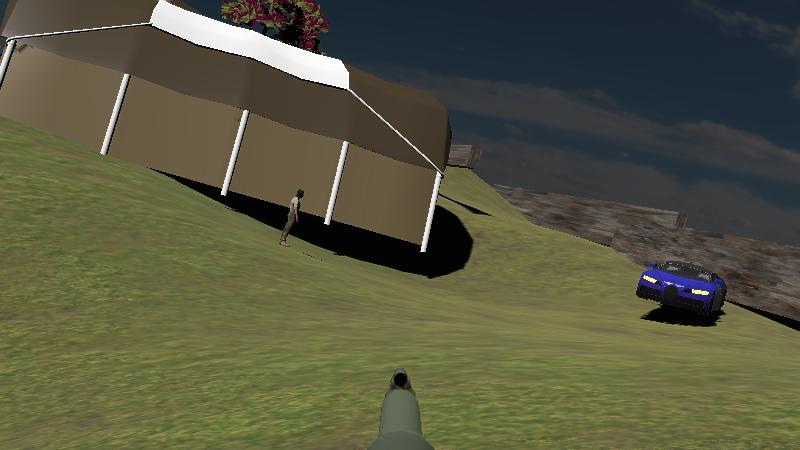Human: (275, 185, 307, 250)
car: (632, 253, 730, 325)
